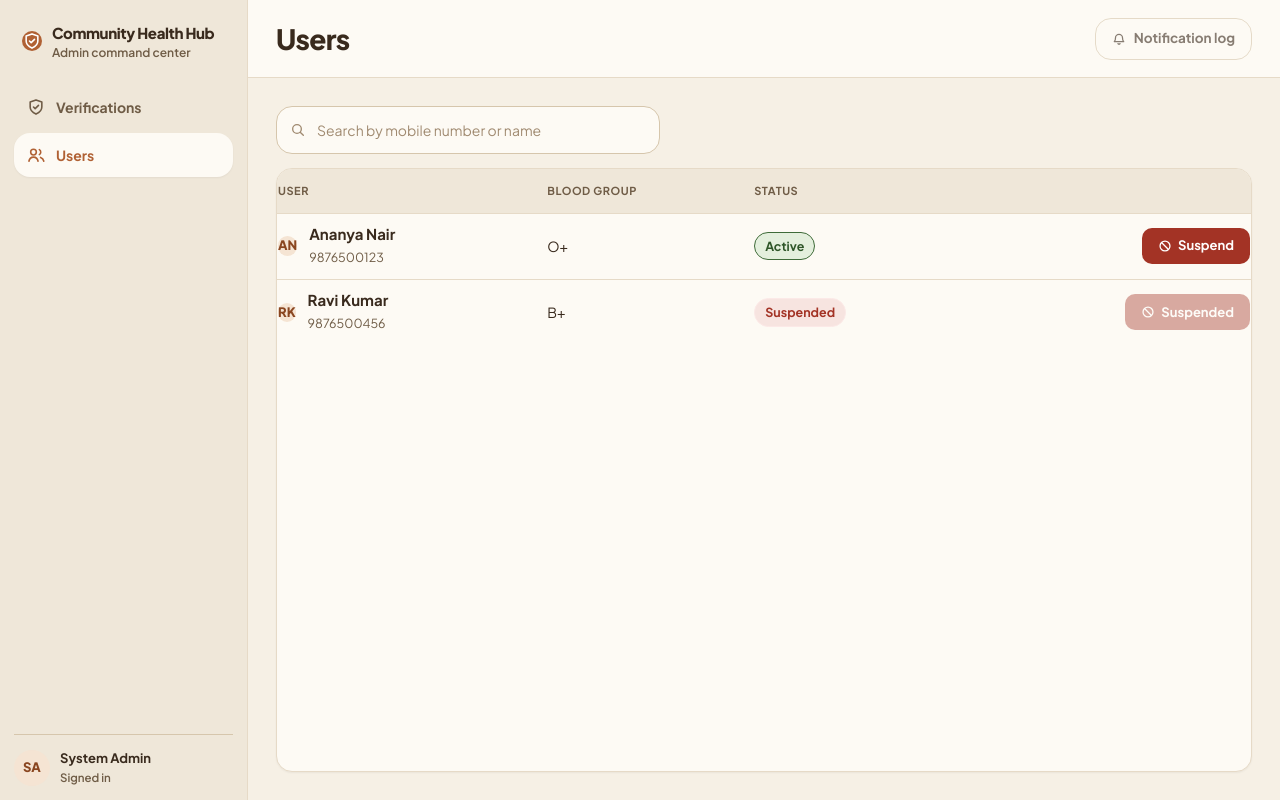
UsersPage › shows an inline error when the suspend request fails
Expected: the text "Ananya Nair" is shown, [309,224,395,244]
Click the button "Suspend": (1196, 246) [1142,228,1250,264]
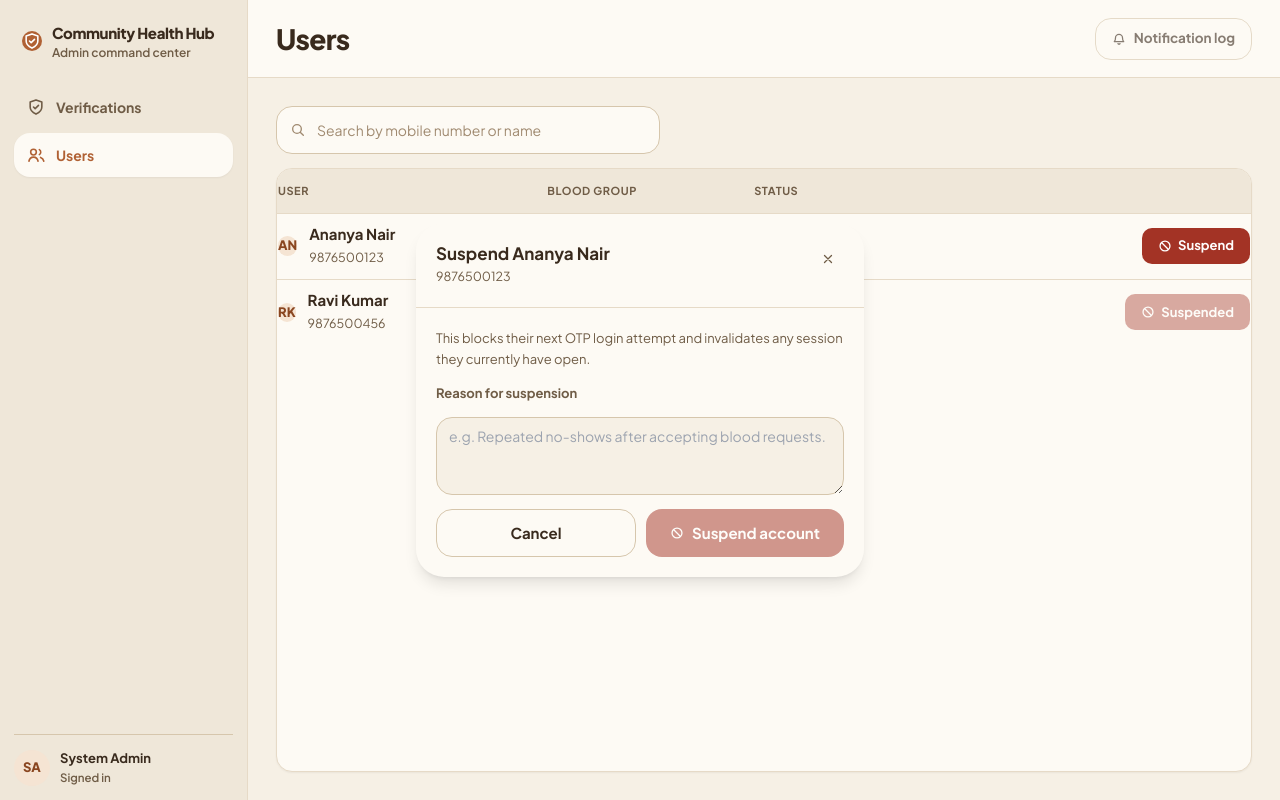
In the text box labelled "Reason for suspension": (640, 456) [436,417,844,495], type "Repeated no-shows"
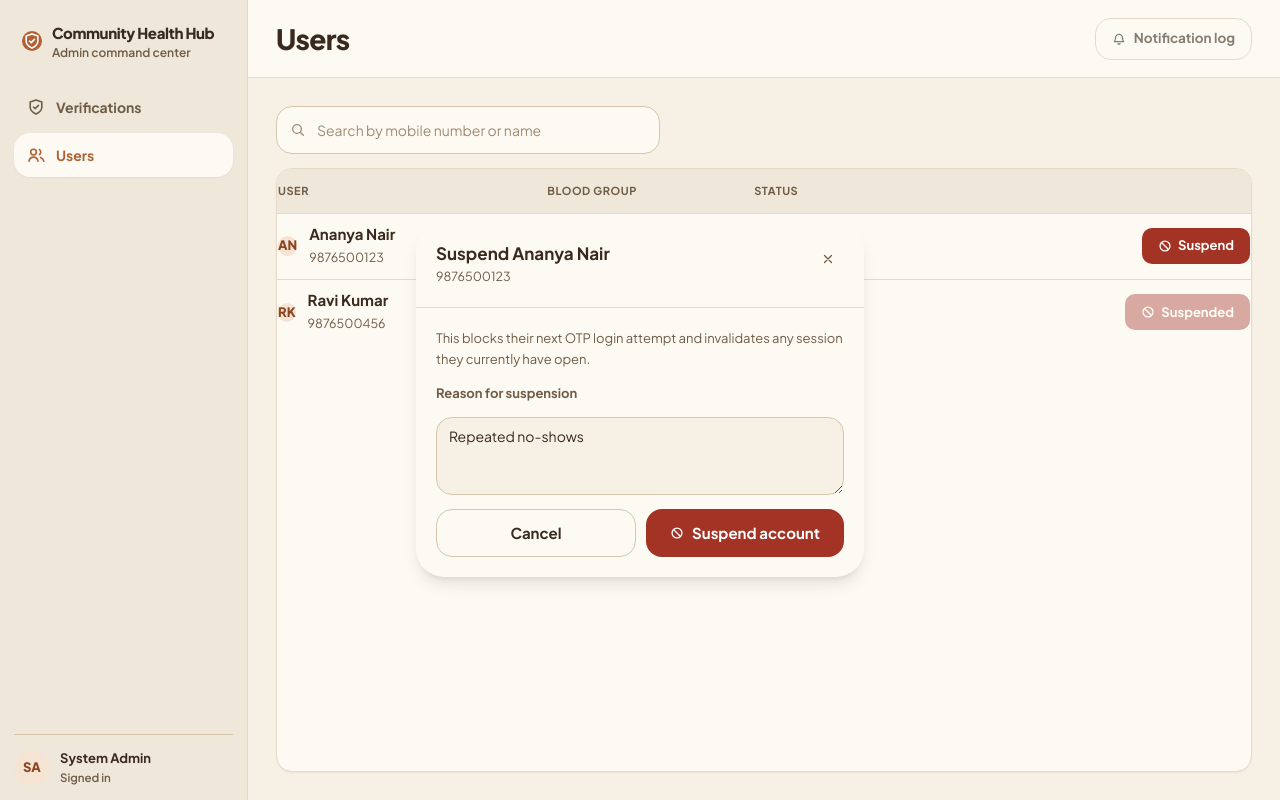
Click the button "Suspend account": (745, 533) [646,509,844,557]
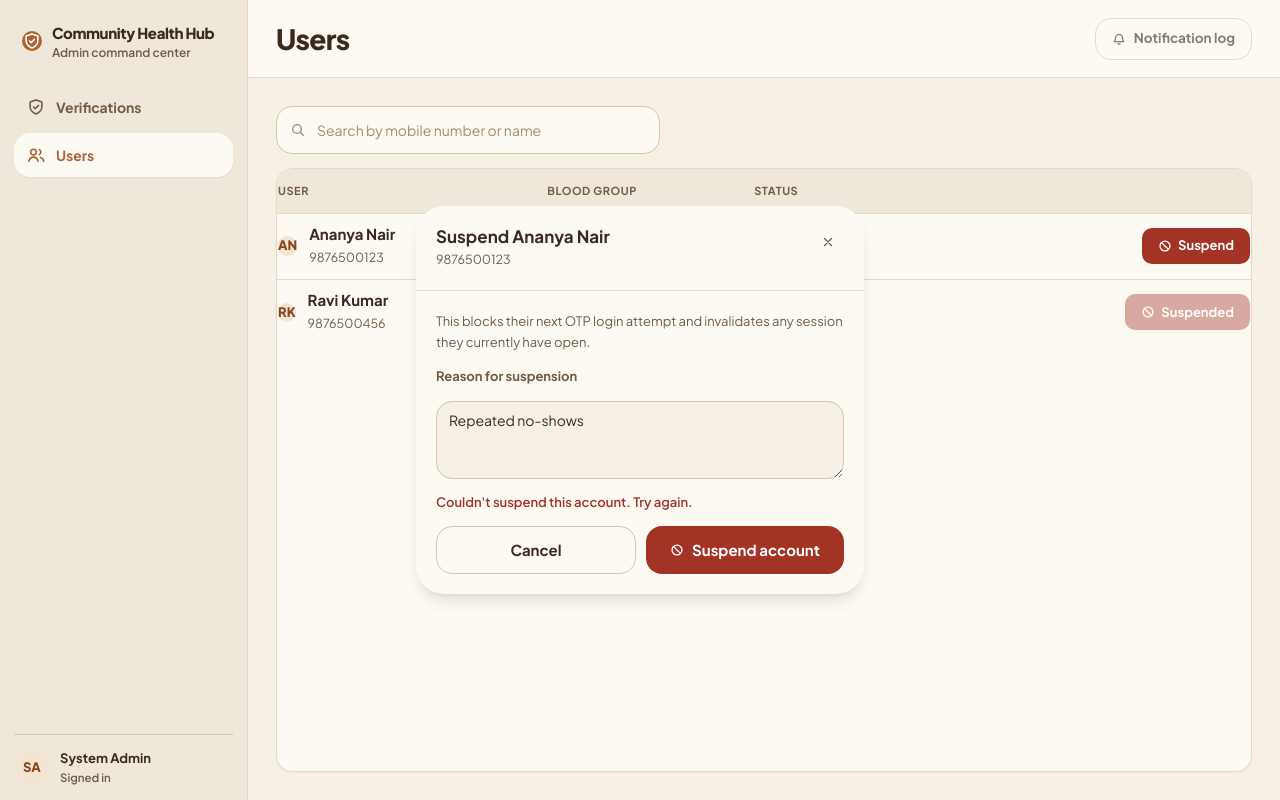
Expected: the text "Couldn't suspend this account. Try again." is shown, [436,494,692,510]
